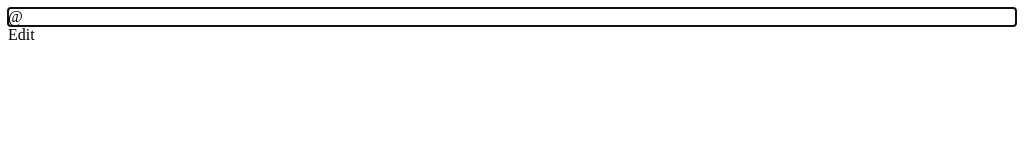
Test: completion list: the active entry follows real pointer movement › makes the row under the moving pointer the active one; Enter picks it
The image size is (1024, 160).
Clear the field named "Edit" at (15, 16), box [8,8,23,25]
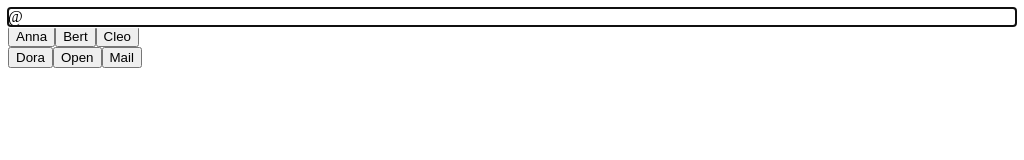
Expected: the list is shown, [8,26,142,68]
Press Enter in the field named "Edit", box [8,8,23,25]
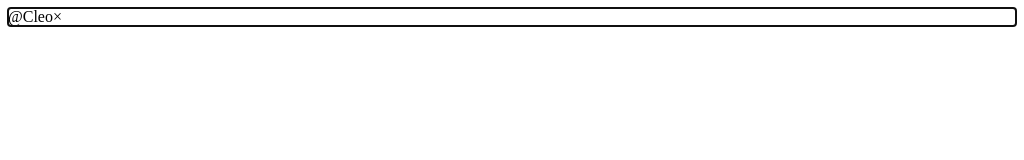
Expected: the element showing "@Cleo ×" is shown, [8,8,62,25]
